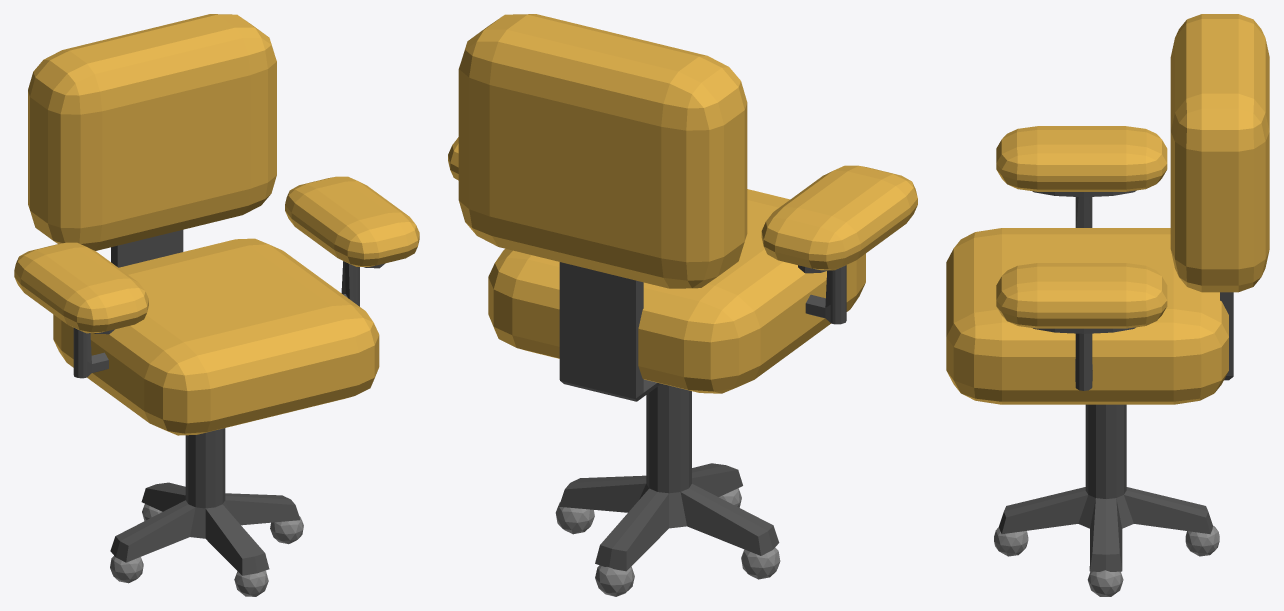
Rendered from Chair E.glb.
3 renders of one model, left to right at view 1: azimuth 30°, elevation 25°; view 2: azimuth 150°, elevation 25°; view 3: azimuth 270°, elevation 25°, orthographic. The views are drawn at different scales.
Visible parts, largest first — view 1: Chair E; view 2: Chair E; view 3: Chair E.
Boxes of the visible parts, left/top/right/bottom form: Chair E: left=14, top=14, right=419, bottom=596; Chair E: left=448, top=14, right=917, bottom=596; Chair E: left=946, top=14, right=1269, bottom=596.
Bounding box in the file's own units: 430 × 567 × 332.
